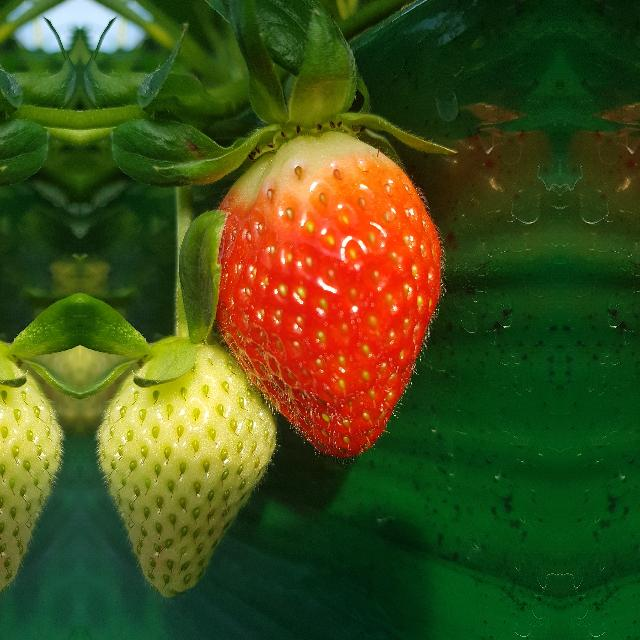Health_100: (212, 130, 446, 460)
Health_25: (98, 332, 276, 596), (0, 332, 61, 595)
